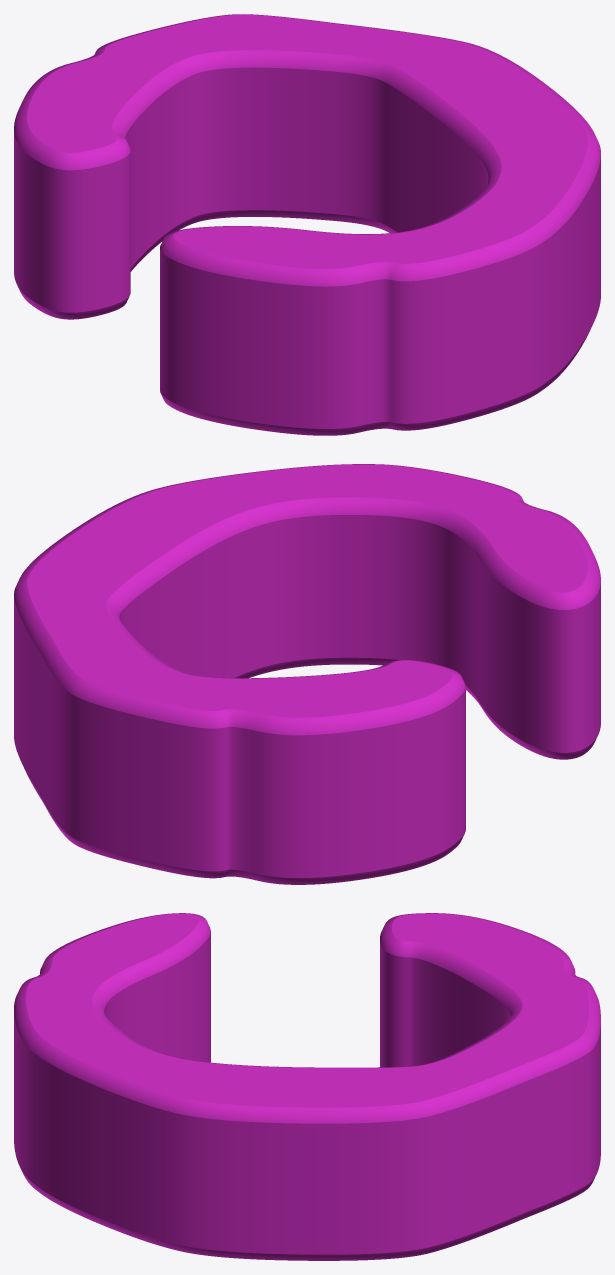
Rendered from Blocky_Letter_c.fbx.
3 views of the same model, one above another, from view 1: azimuth 30°, elevation 25°; view 2: azimuth 150°, elevation 25°; view 3: azimuth 270°, elevation 25° (orthographic). The views are drawn at different scales.
Parts seen in each view (by area): view 1: BlockyLetter_c; view 2: BlockyLetter_c; view 3: BlockyLetter_c.
Part boxes in pixels (left/top/right/bottom): BlockyLetter_c: left=14, top=14, right=600, bottom=435; BlockyLetter_c: left=14, top=464, right=600, bottom=884; BlockyLetter_c: left=14, top=913, right=600, bottom=1260.
Size of the model in its own units: 0.4015 by 0.14 by 0.4873.
